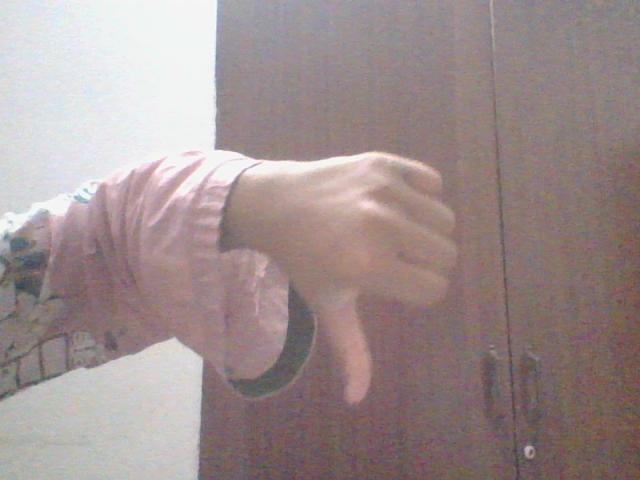thumbs-down: (293, 143, 469, 411)
